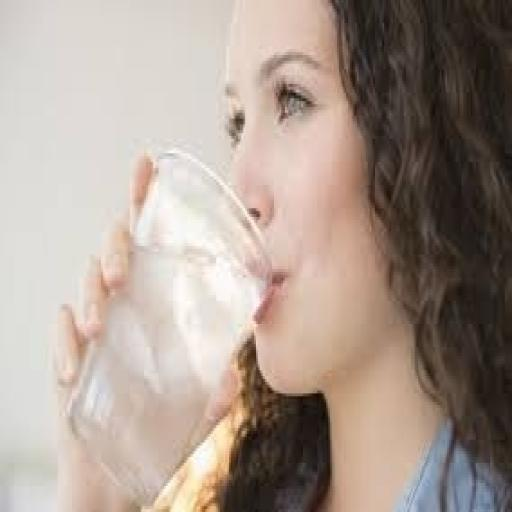drinking: (62, 145, 272, 506)
